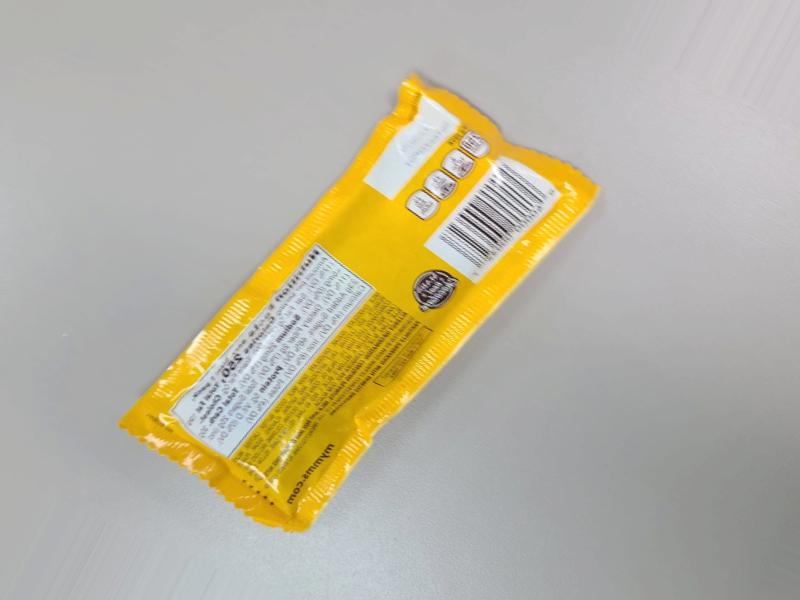m&m: (191, 43, 563, 595)
